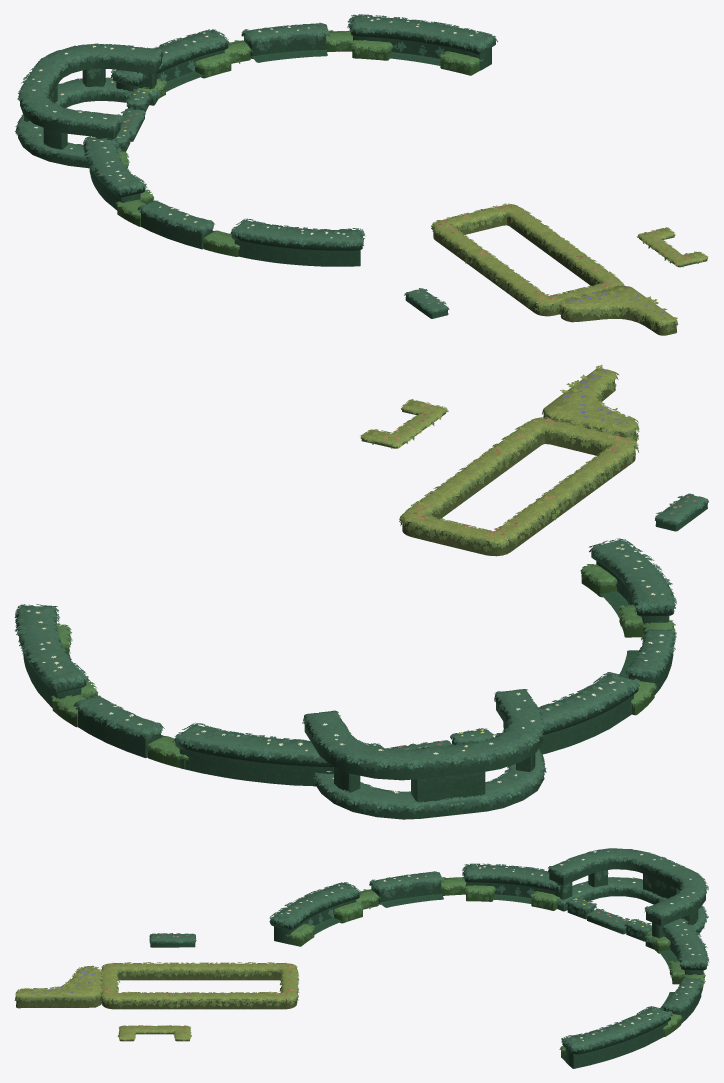
File: pref_sm_garden_bush_vertexcolor_04_lv2.fbx
3 renders of one model, top to bottom at view 1: azimuth 30°, elevation 25°; view 2: azimuth 150°, elevation 25°; view 3: azimuth 270°, elevation 25°, orthographic. The views are drawn at different scales.
Parts seen in each view (by area): view 1: pref_sm_garden_bush_vertexcolor_04_lv2; view 2: pref_sm_garden_bush_vertexcolor_04_lv2; view 3: pref_sm_garden_bush_vertexcolor_04_lv2.
Part boxes in pixels (<box>): pref_sm_garden_bush_vertexcolor_04_lv2: <box>15,14,708,335</box>; pref_sm_garden_bush_vertexcolor_04_lv2: <box>14,365,708,819</box>; pref_sm_garden_bush_vertexcolor_04_lv2: <box>14,848,709,1068</box>.
Size of the model in its own units: 43.79 by 4.58 by 68.84.
